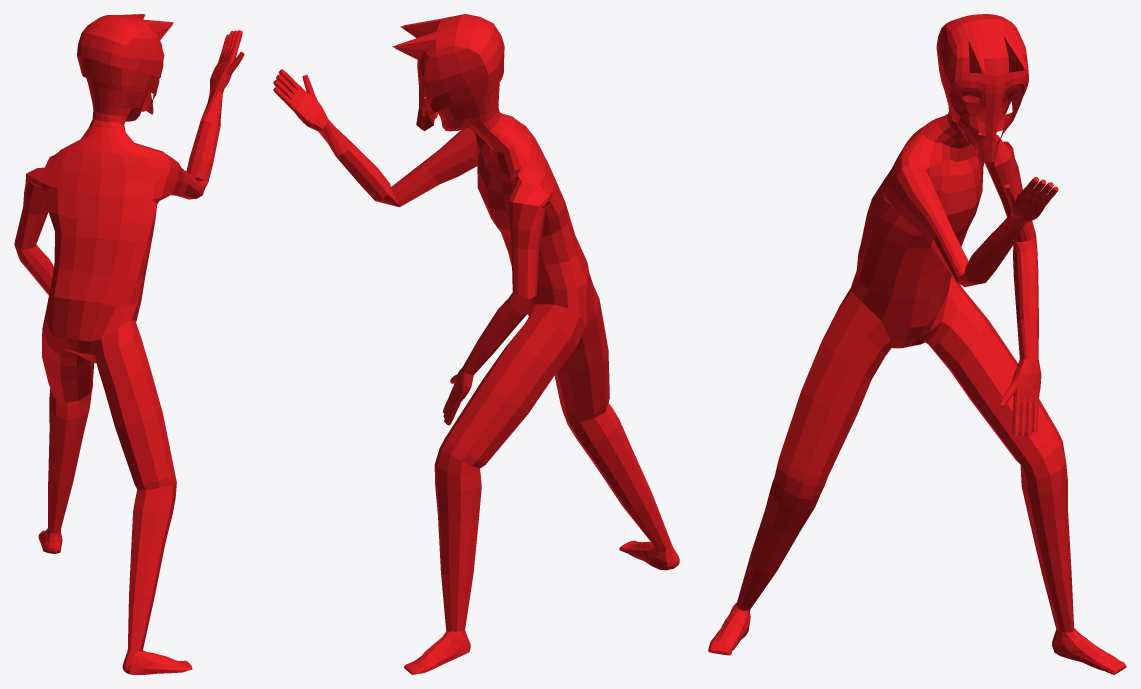
Rendered from activaAlarma_000090.obj.
The picture shows the model from 3 angles, left to right: view 1: azimuth 30°, elevation 25°; view 2: azimuth 150°, elevation 25°; view 3: azimuth 270°, elevation 25°; orthographic projection. The views are drawn at different scales.
Parts seen in each view (by area): view 1: Plane.002_Plane.001; view 2: Plane.002_Plane.001; view 3: Plane.002_Plane.001.
Boxes of the visible parts, <box> form: Plane.002_Plane.001: <box>14,14,244,674</box>; Plane.002_Plane.001: <box>273,14,679,674</box>; Plane.002_Plane.001: <box>708,14,1126,674</box>.
Size of the model in its own units: 3 by 6.59 by 3.78.
